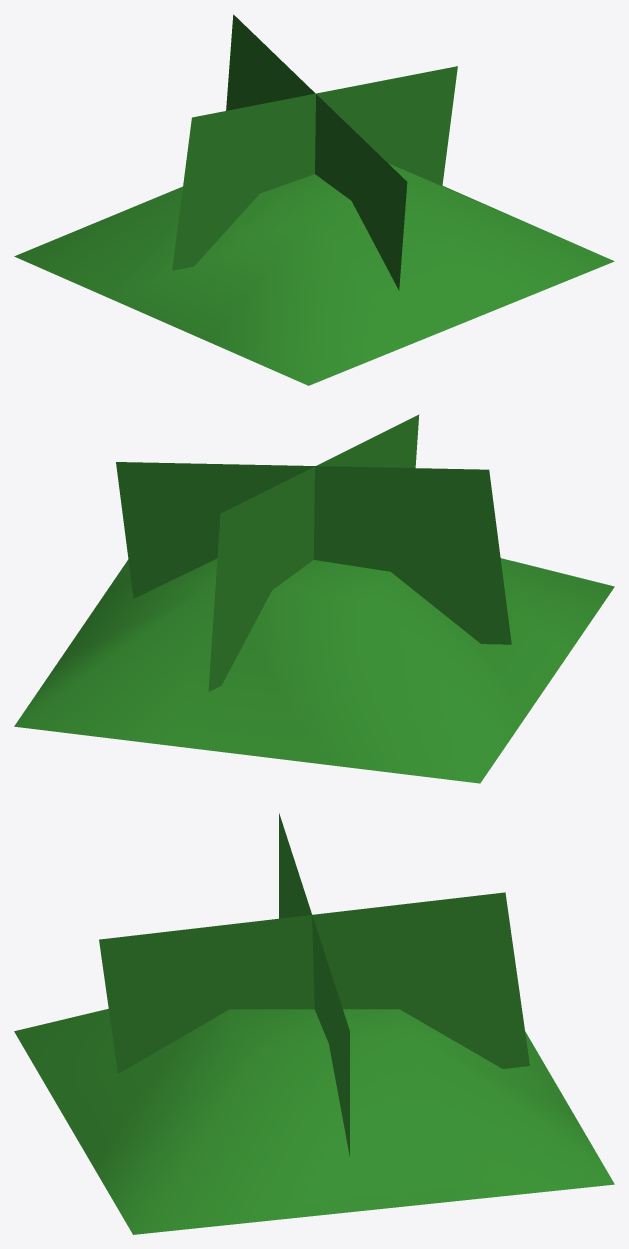
Rendered from Flower_Krishna_Anim.FBX.
3 renders of one model, top to bottom at view 1: azimuth 30°, elevation 25°; view 2: azimuth 150°, elevation 25°; view 3: azimuth 270°, elevation 25°, orthographic. The views are drawn at different scales.
Visible parts, largest first — view 1: Flower_Krishna; view 2: Flower_Krishna; view 3: Flower_Krishna.
Boxes of the visible parts, bbox=[...] form: Flower_Krishna: bbox=[14, 14, 614, 385]; Flower_Krishna: bbox=[14, 414, 614, 783]; Flower_Krishna: bbox=[14, 813, 614, 1234].
Bounding box in the file's own units: 140 × 57.53 × 140.
